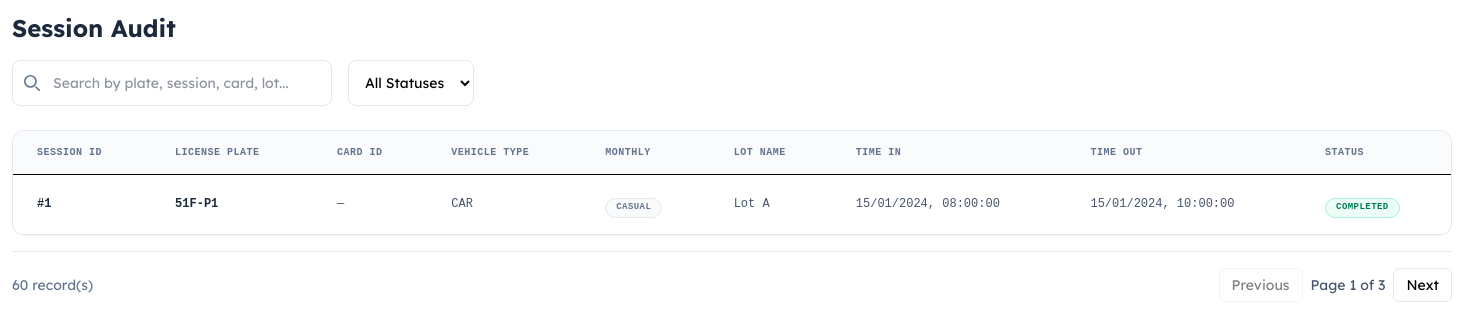
AuditPage pagination controls › enables Previous button after navigating to page 2
Expected: the text "51F-P1" is shown, [151,174,313,234]
// Navigate to page 2
Click the button "Next". click: (1423, 284)
box: [1394,268,1452,302]
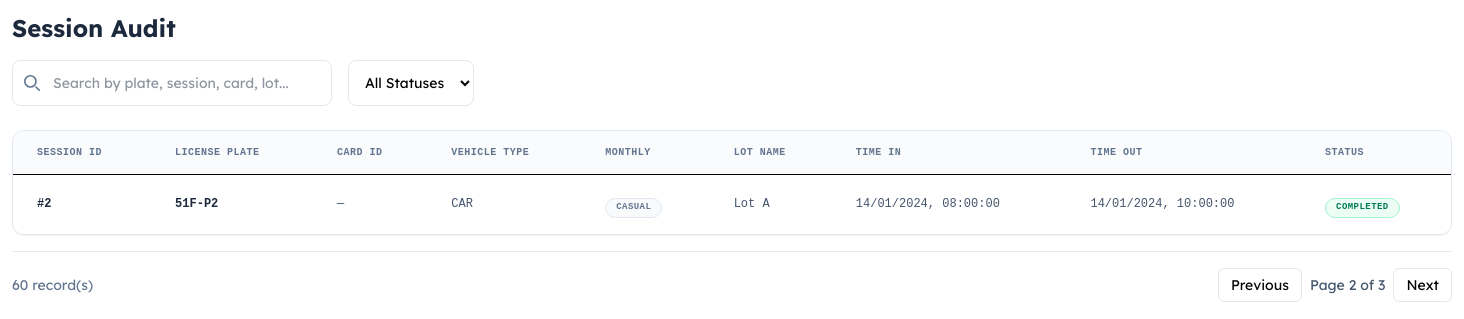
Expected: the text "51F-P2" is shown, [151,174,313,234]
Expected: the button "Previous" is enabled, [1218,268,1302,302]
